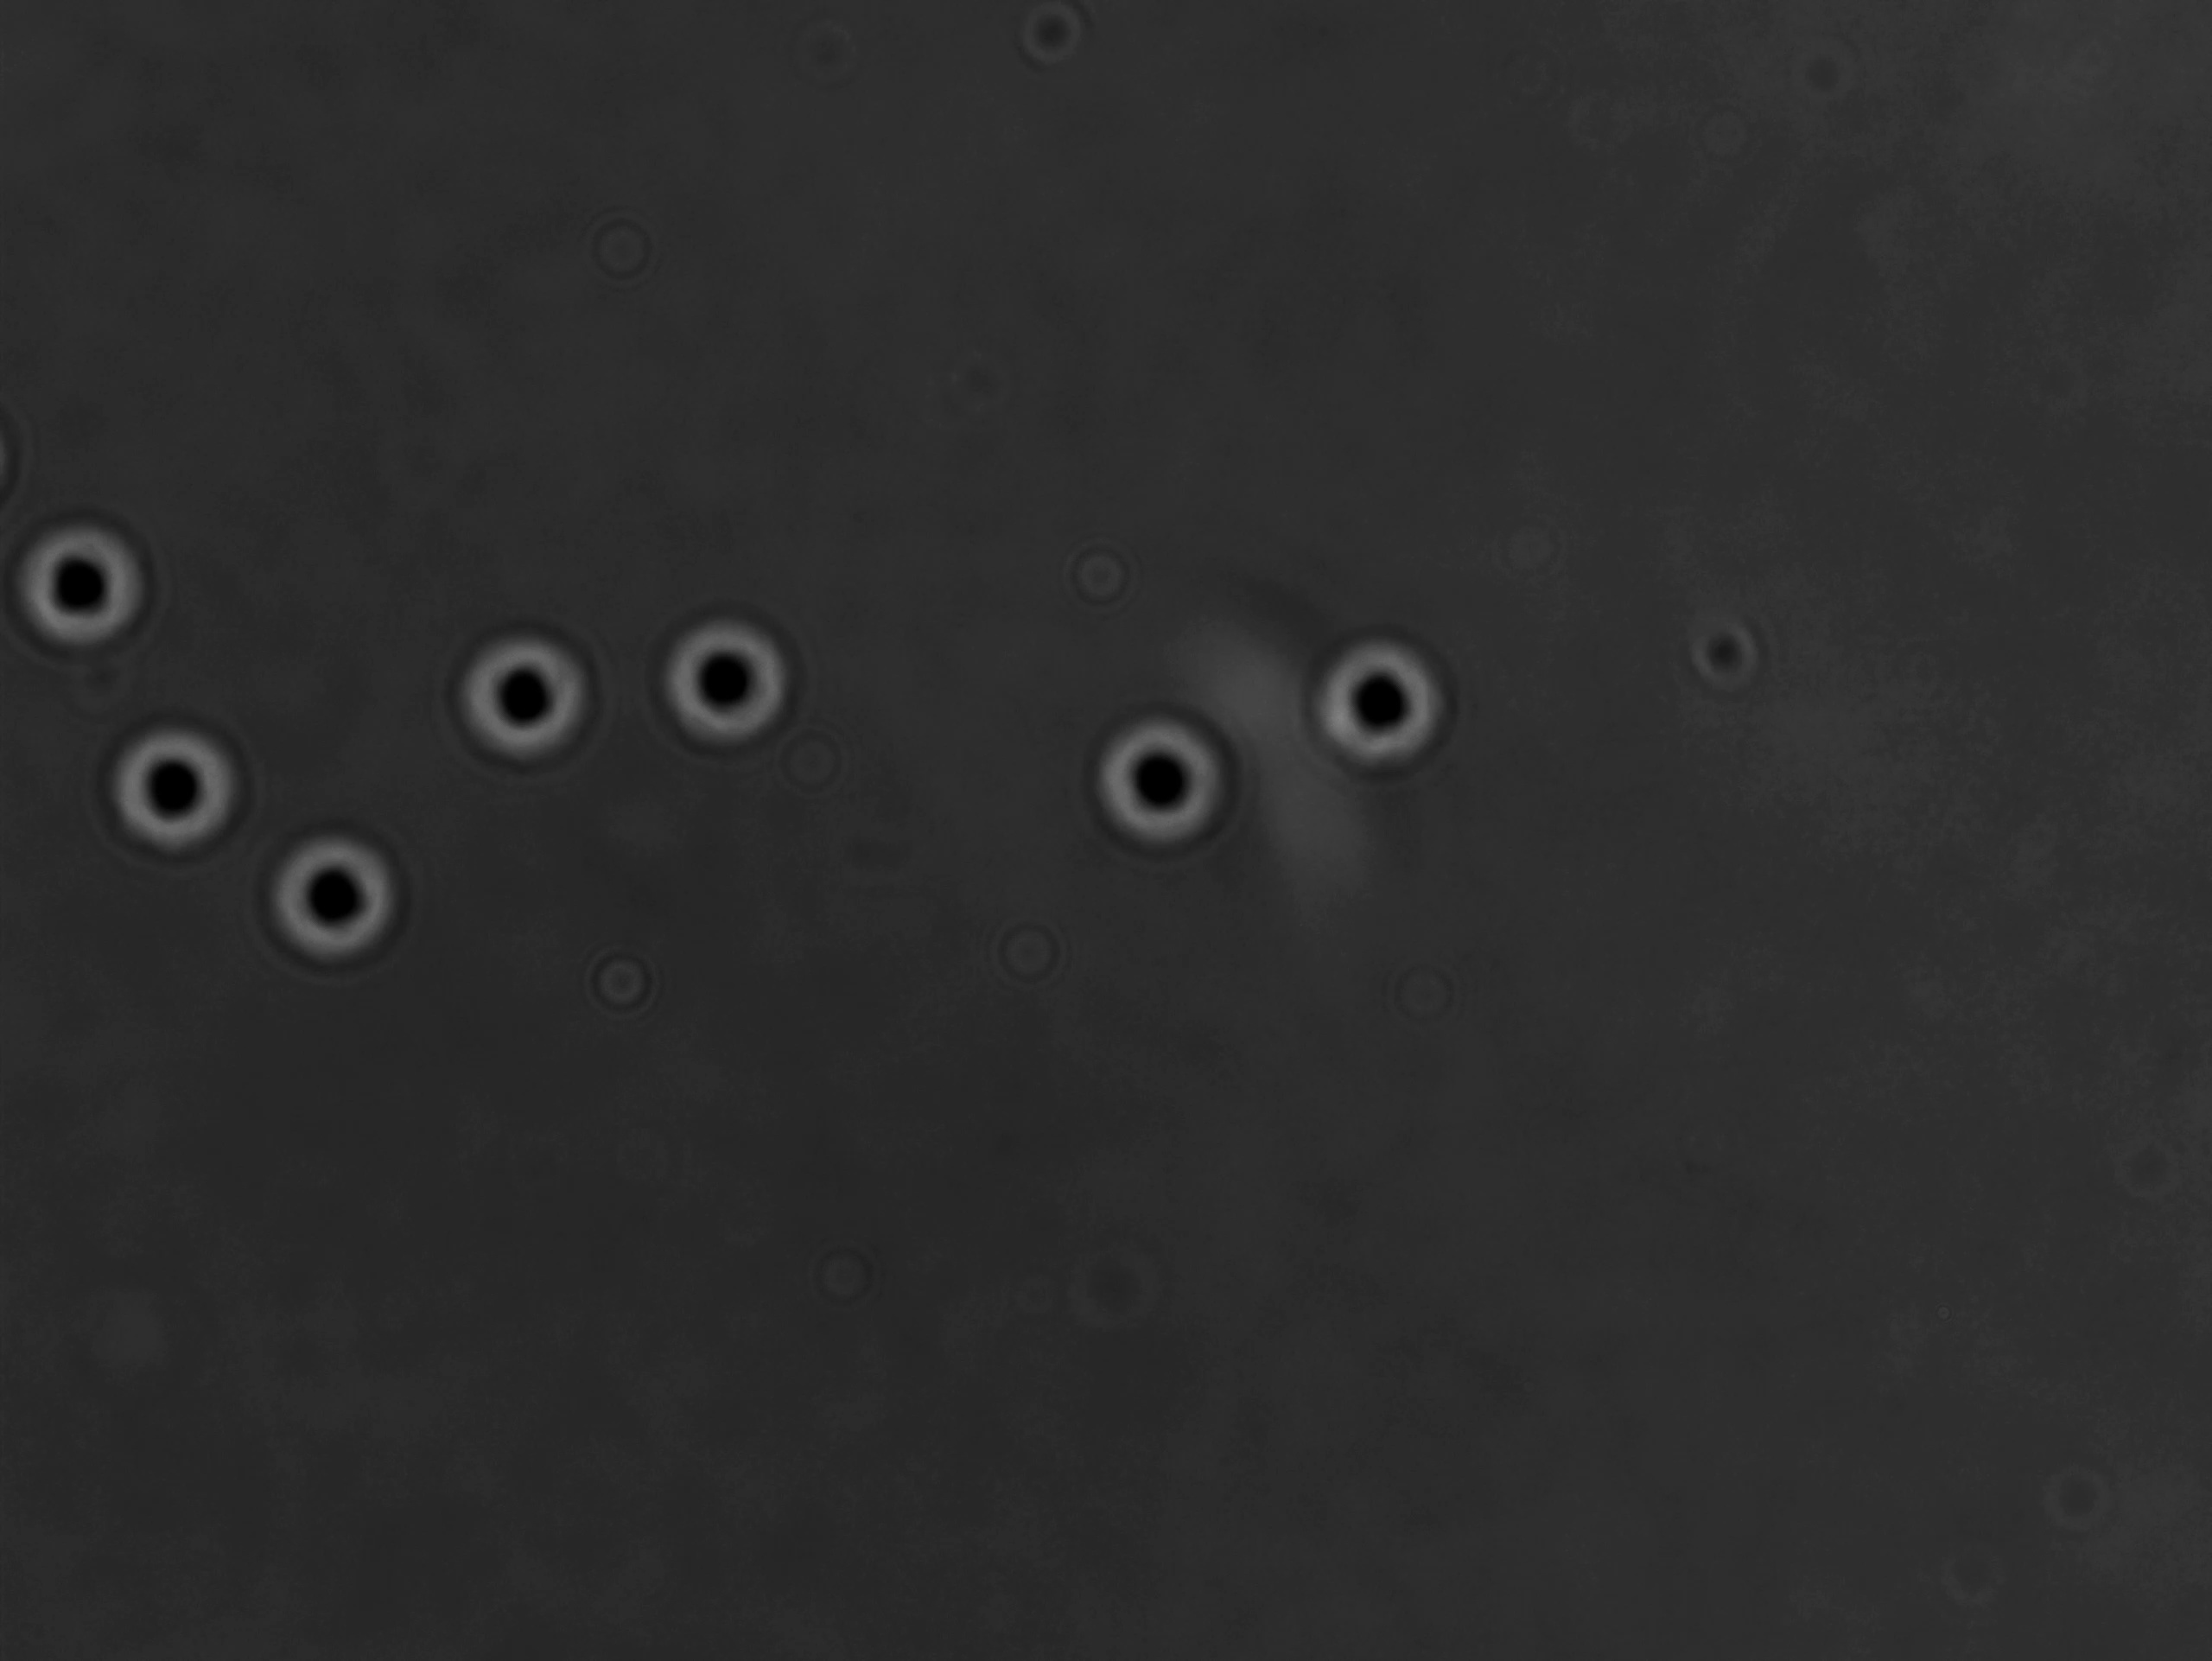depth:-20: (642, 593, 816, 766), (1296, 605, 1467, 782), (1076, 693, 1253, 860), (256, 822, 436, 986), (441, 612, 614, 775), (92, 701, 255, 865), (9, 513, 178, 668)
